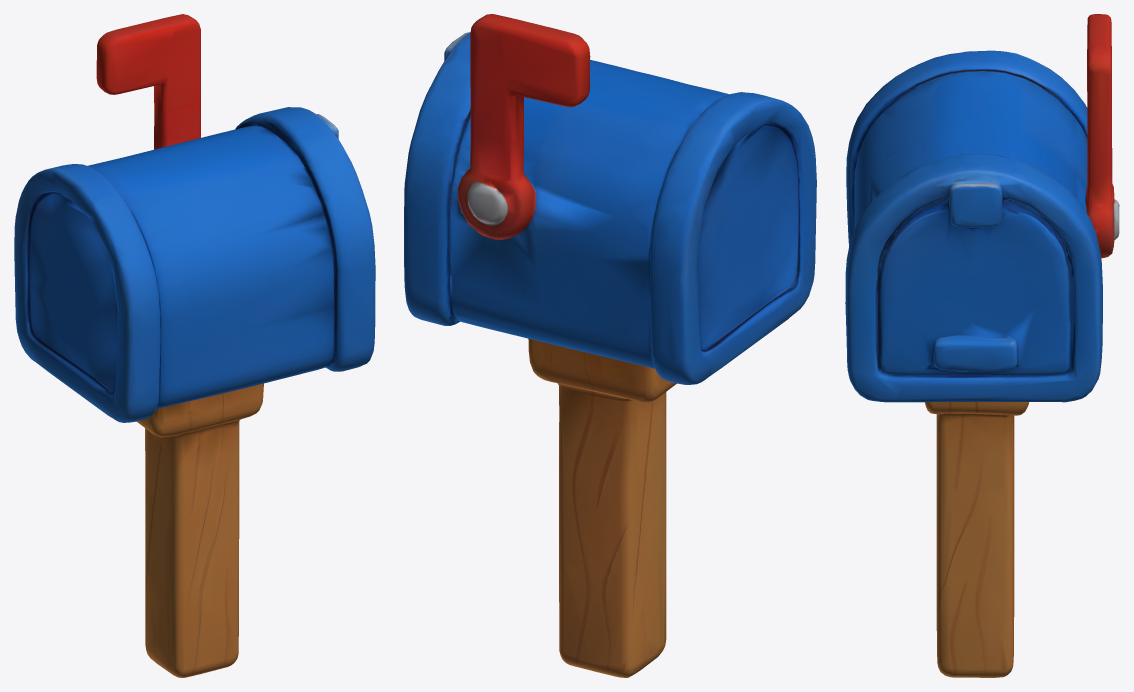
Rendered from mailbox.glb.
The picture shows the model from 3 angles, left to right: view 1: azimuth 30°, elevation 25°; view 2: azimuth 150°, elevation 25°; view 3: azimuth 270°, elevation 25°; orthographic projection. The views are drawn at different scales.
Parts seen in each view (by area): view 1: tripo_node_1fb501d9-b7b4-453f-b925-f01b54c5228f; view 2: tripo_node_1fb501d9-b7b4-453f-b925-f01b54c5228f; view 3: tripo_node_1fb501d9-b7b4-453f-b925-f01b54c5228f.
Part boxes in pixels (x1,y1,x2,y2): tripo_node_1fb501d9-b7b4-453f-b925-f01b54c5228f: (14,14,375,677); tripo_node_1fb501d9-b7b4-453f-b925-f01b54c5228f: (404,14,816,677); tripo_node_1fb501d9-b7b4-453f-b925-f01b54c5228f: (845,14,1119,677).
Bounding box in the file's own units: 0.4636 × 0.9997 × 0.3877.
Materials: 1 (1 with a texture image).
